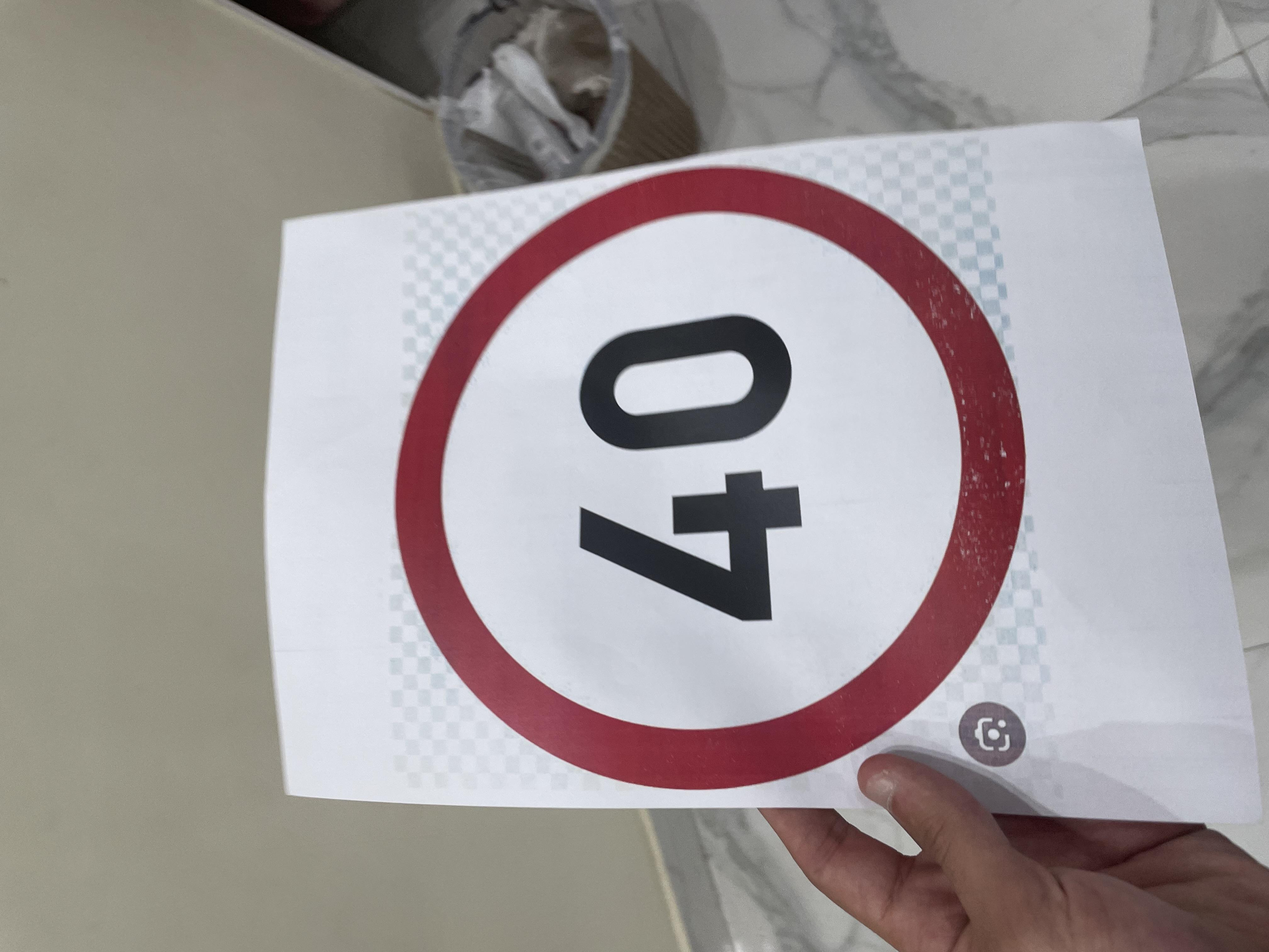40-Speed: (211, 293, 1080, 774)
